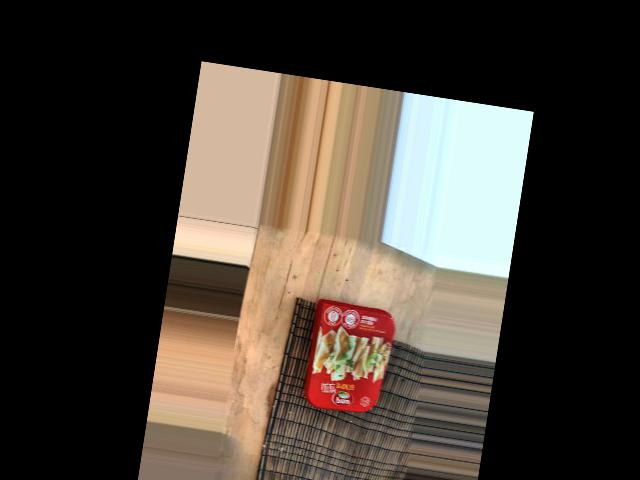cheese: (313, 298, 403, 425)
